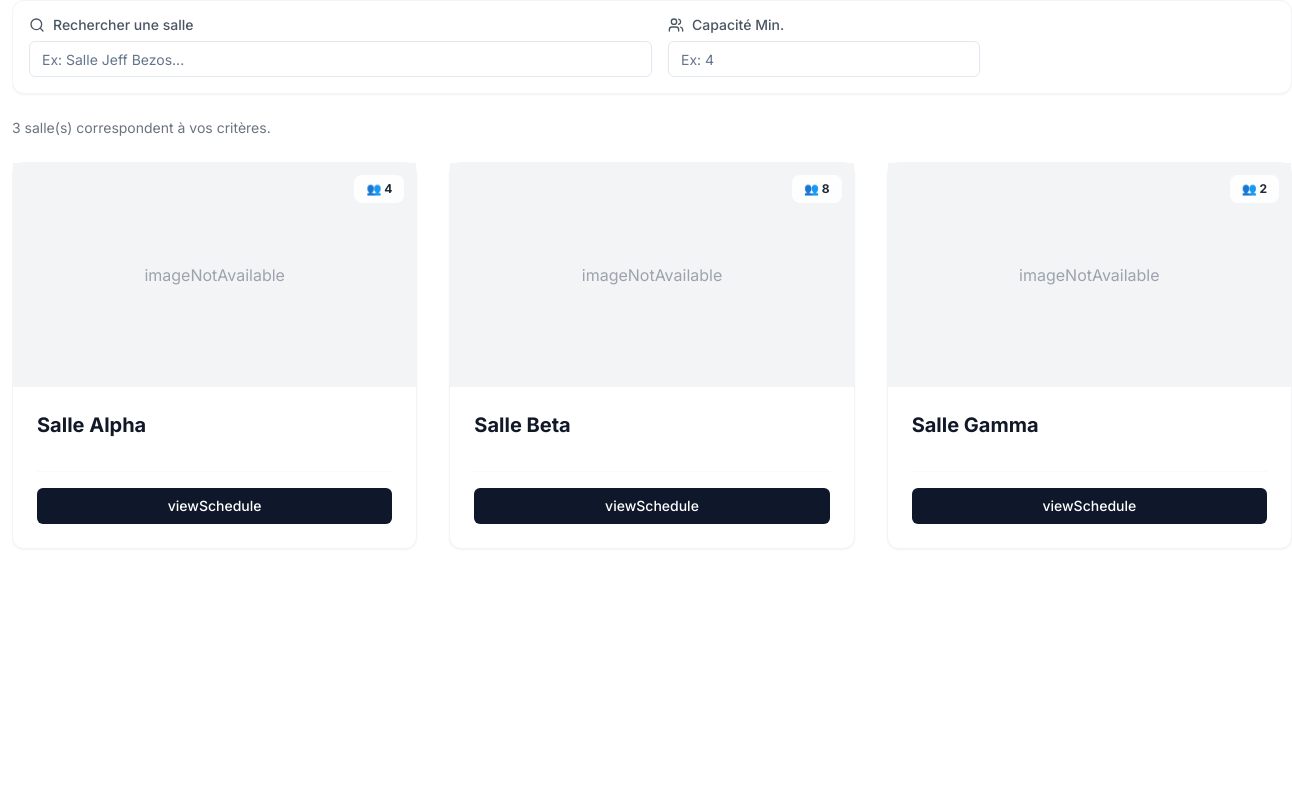
FilteredRoomList › filters by search text
Step 1. Type "Beta" into the field with placeholder "Ex: Salle Jeff Bezos..." → (340, 59), box [29,41,652,77]
Wait 500 ms
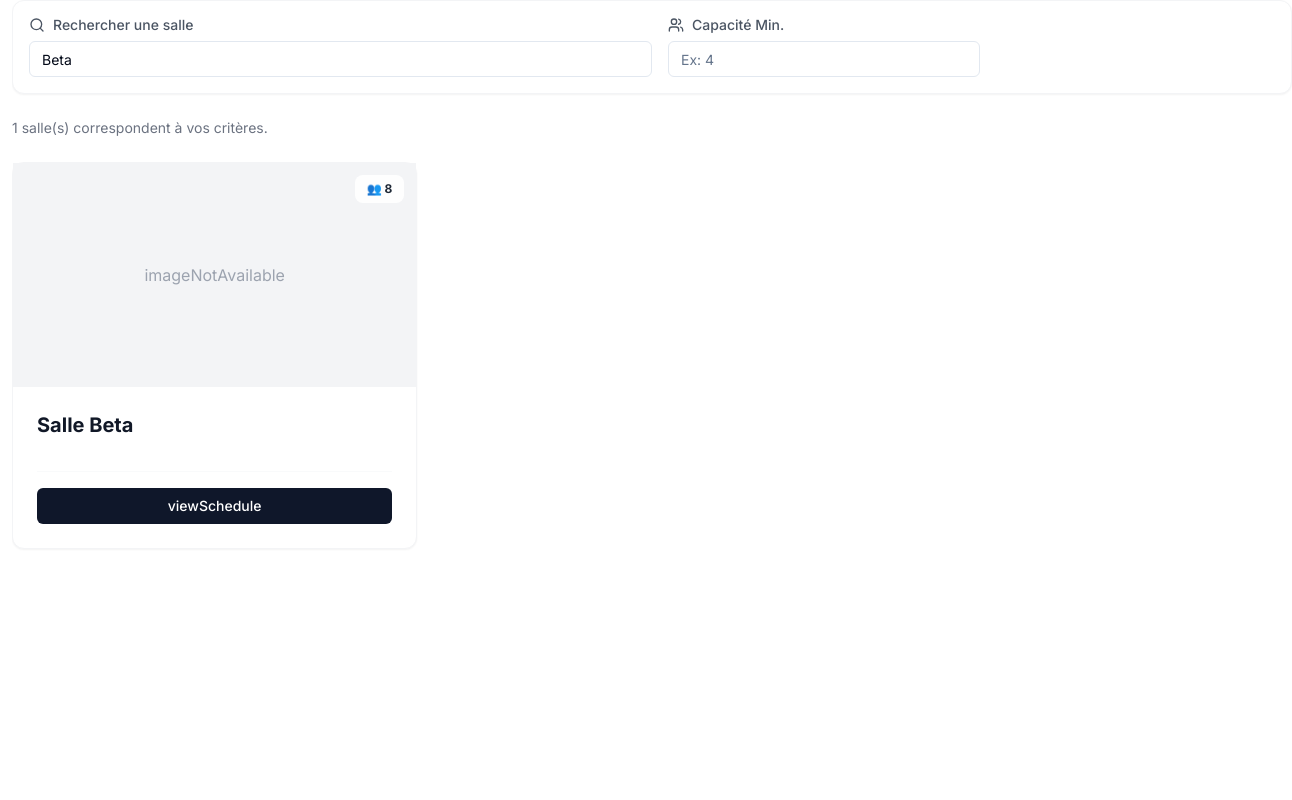
Now the text "1 salle(s) correspondent à vos critères." is shown, box [12,119,268,136]
